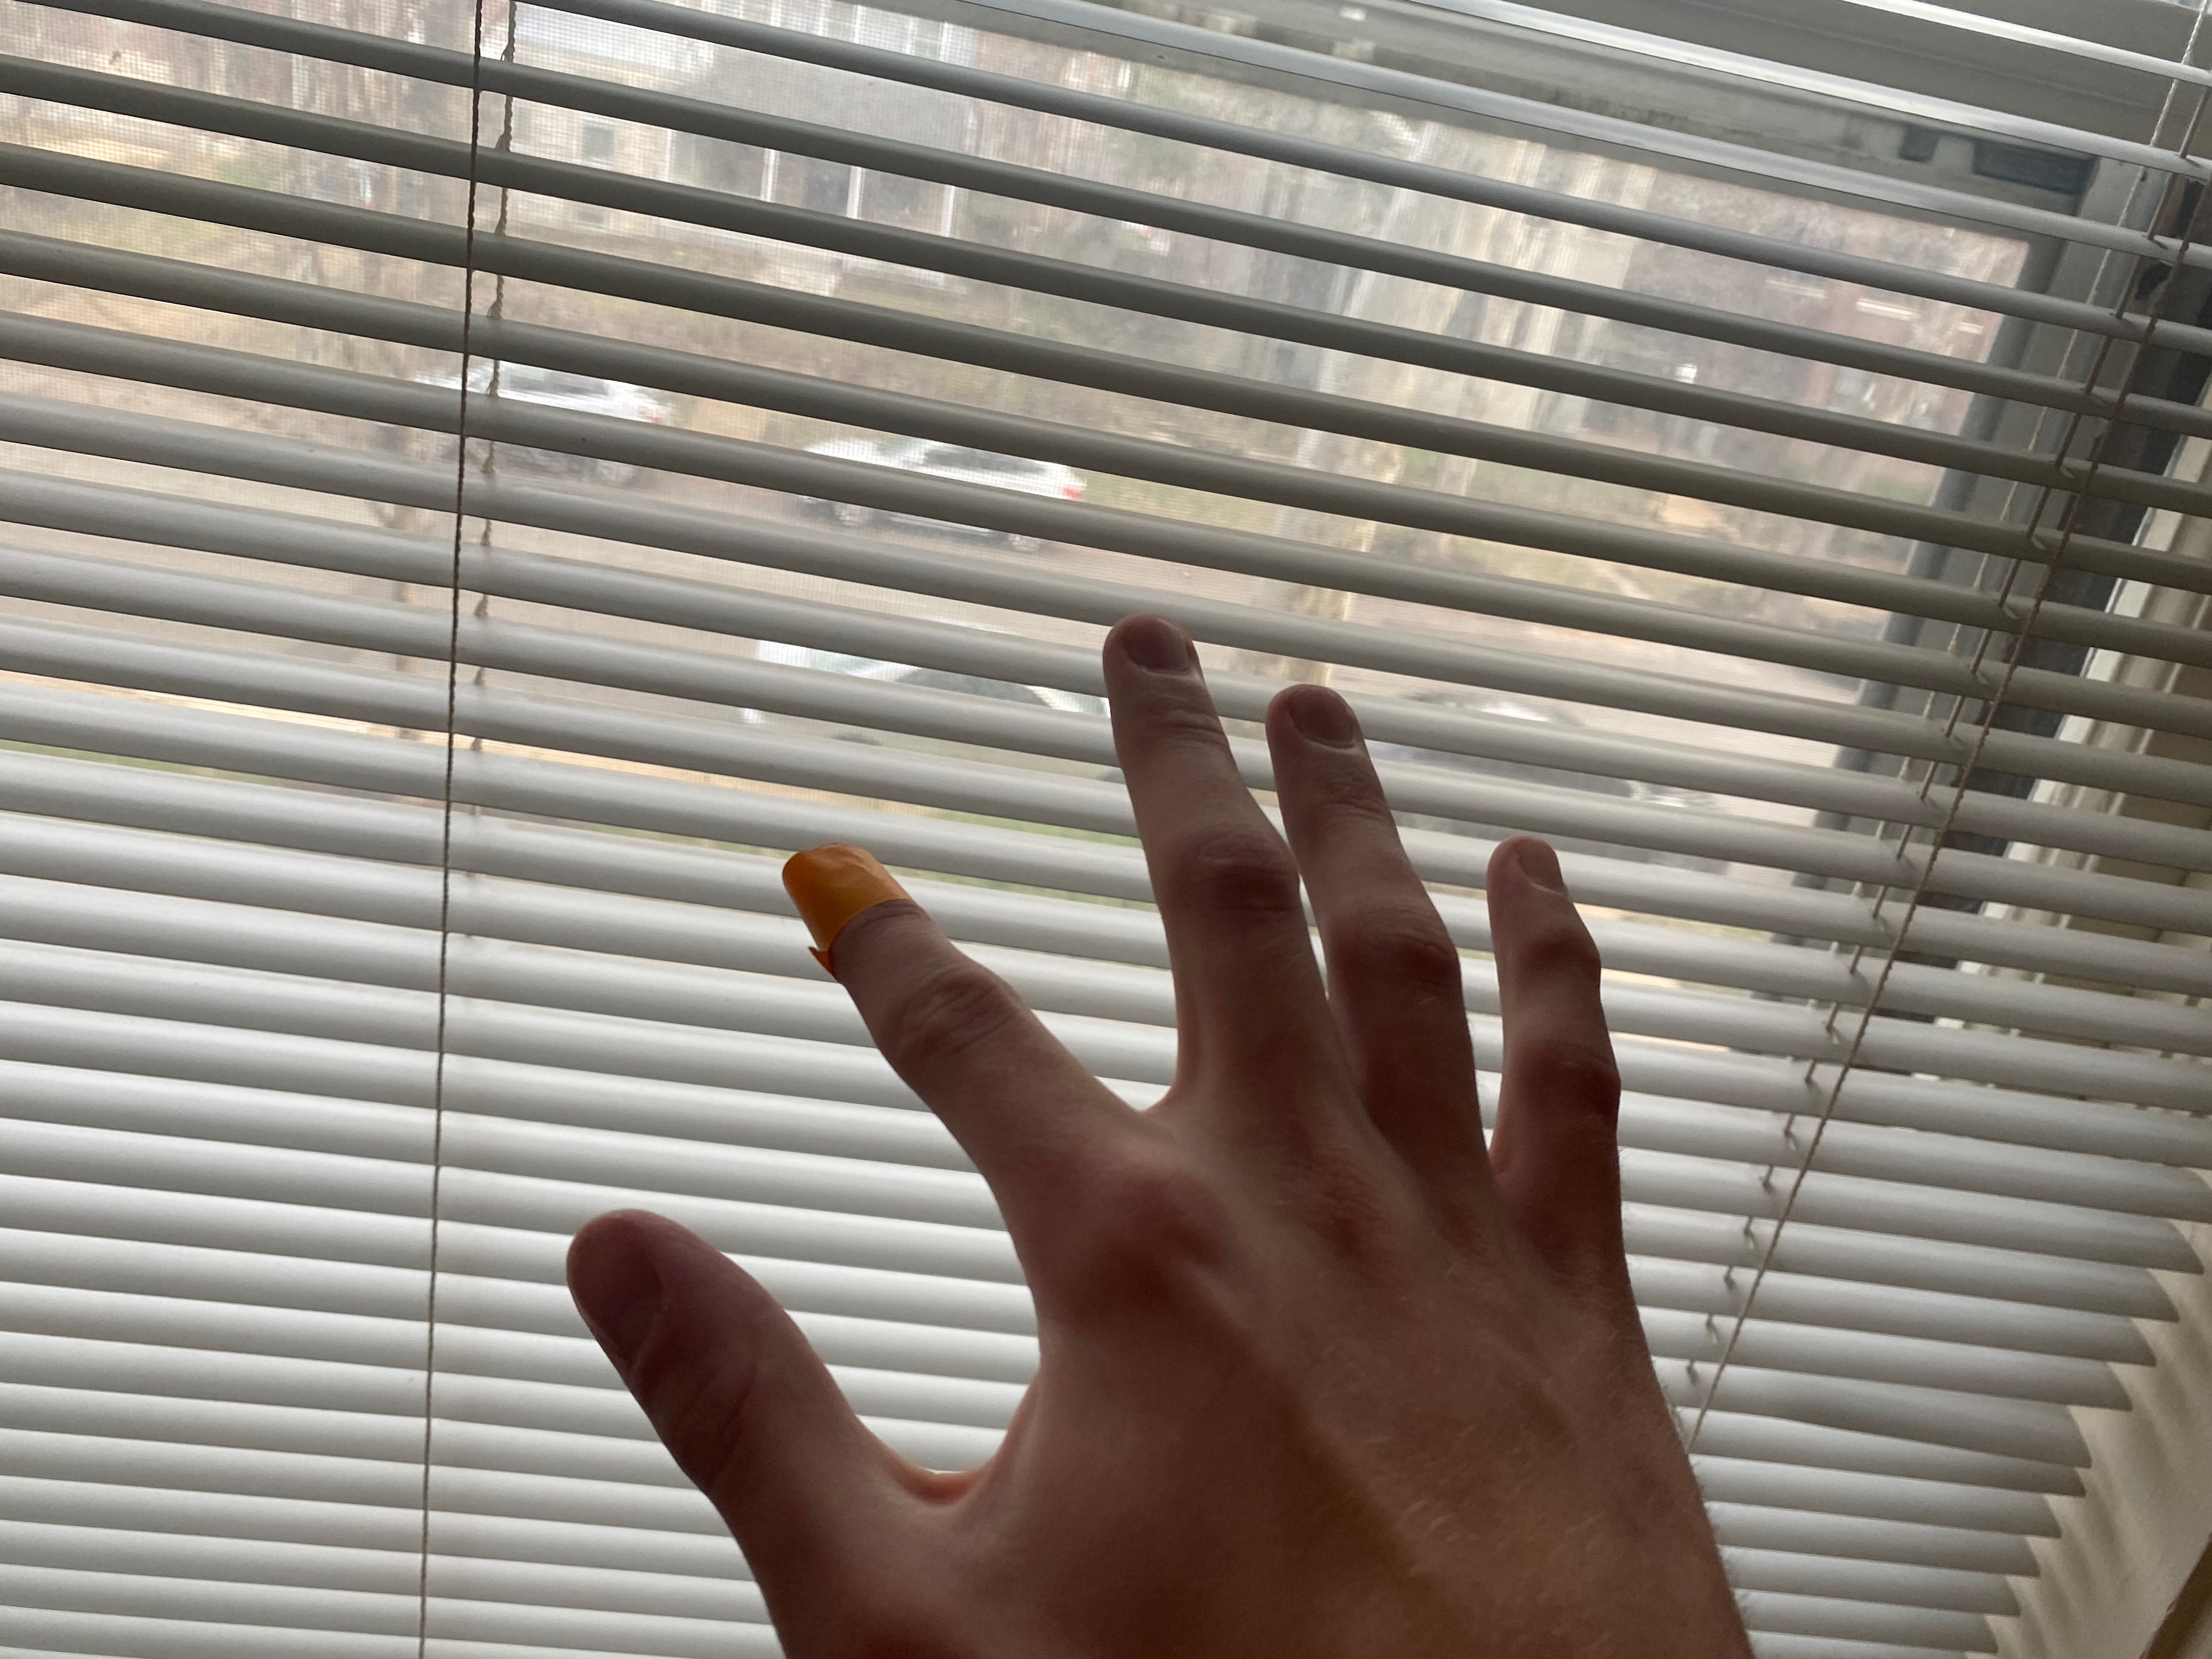fingertip: (754, 831, 930, 946)
